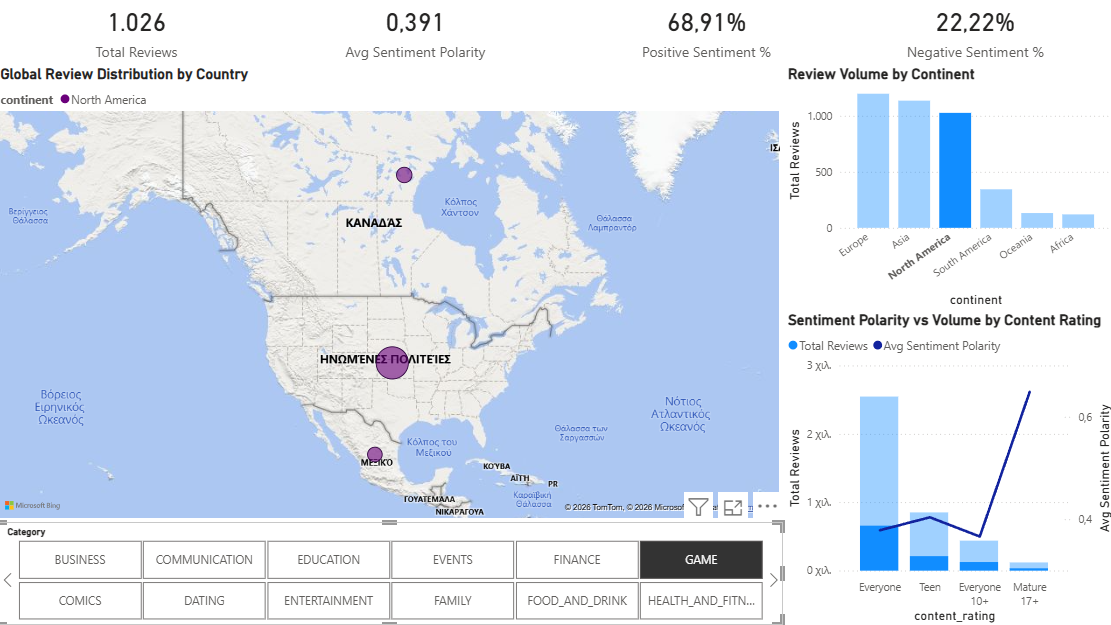

Layout of this report page (visuals, bound fields, positions):
{"tool":"powerbi","page":{"name":"Geographic Analysis","canvas":[1280,720],"ordinal":1},"visuals":[{"type":"map","title":"Global Review Distribution by Country","fields":{"Category":["playstore_dw dim_locations.country"],"Size":["_Measures.Total Reviews"],"Series":["playstore_dw dim_locations.continent"]},"box":[0,76.7,900,523.3],"z":0},{"type":"card","fields":{"Values":["_Measures.Total Reviews"]},"box":[0,0,321.7,76.7],"z":1000},{"type":"card","fields":{"Values":["_Measures.Avg Sentiment Polarity"]},"box":[318.3,0,321.7,76.7],"z":2000},{"type":"card","fields":{"Values":["_Measures.Positive Sentiment %"]},"box":[651.7,0,321.7,76.7],"z":3000},{"type":"card","fields":{"Values":["_Measures.Negative Sentiment %"]},"box":[958.3,0,321.7,76.7],"z":4000},{"type":"slicer","fields":{"Values":["playstore_dw dim_apps.category"]},"box":[0,600,900,118.3],"z":5000},{"type":"lineClusteredColumnComboChart","title":"Sentiment Polarity vs Volume by Content Rating","fields":{"Category":["playstore_dw dim_apps.content_rating"],"Y":["_Measures.Total Reviews"],"Y2":["_Measures.Avg Sentiment Polarity"]},"box":[900,358.3,380,361.7],"z":6000},{"type":"clusteredColumnChart","title":"Review Volume by Continent","fields":{"Category":["playstore_dw dim_locations.continent"],"Y":["_Measures.Total Reviews"]},"box":[900,76.7,380,281.7],"z":7000}]}

Visuals, with their boxes in screenshot pixels (x1, y1, x2, y2), scaled from the page's 1280x720 canvas onto the 1111x625 screenshot:
"Global Review Distribution by Country" map: {"left": 0, "top": 67, "right": 781, "bottom": 521}
card - _Measures.Total Reviews: {"left": 0, "top": 0, "right": 279, "bottom": 67}
card - _Measures.Avg Sentiment Polarity: {"left": 276, "top": 0, "right": 556, "bottom": 67}
card - _Measures.Positive Sentiment %: {"left": 566, "top": 0, "right": 845, "bottom": 67}
card - _Measures.Negative Sentiment %: {"left": 832, "top": 0, "right": 1110, "bottom": 67}
slicer - playstore_dw dim_apps.category: {"left": 0, "top": 521, "right": 781, "bottom": 624}
"Sentiment Polarity vs Volume by Content Rating" lineClusteredColumnComboChart: {"left": 781, "top": 311, "right": 1110, "bottom": 624}
"Review Volume by Continent" clusteredColumnChart: {"left": 781, "top": 67, "right": 1110, "bottom": 311}
